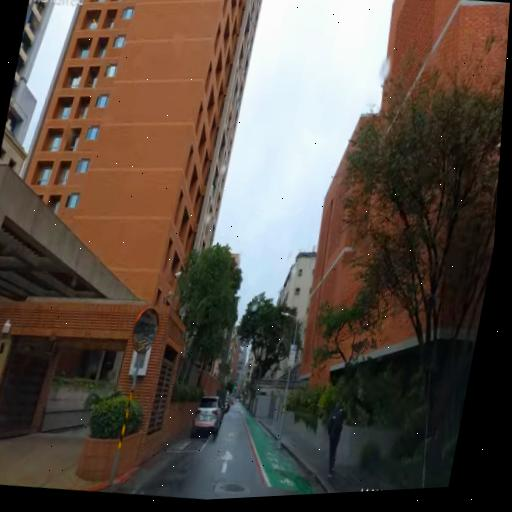Car: (189, 394, 226, 441), (211, 388, 228, 424), (220, 395, 230, 416), (228, 396, 233, 406), (235, 397, 240, 403), (230, 399, 233, 406)
